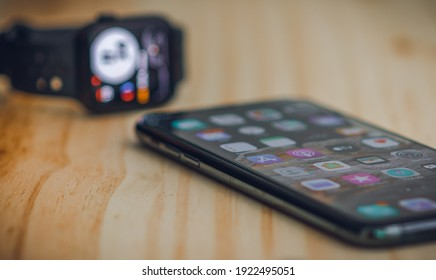Cell Phone: (132, 98, 436, 249)
